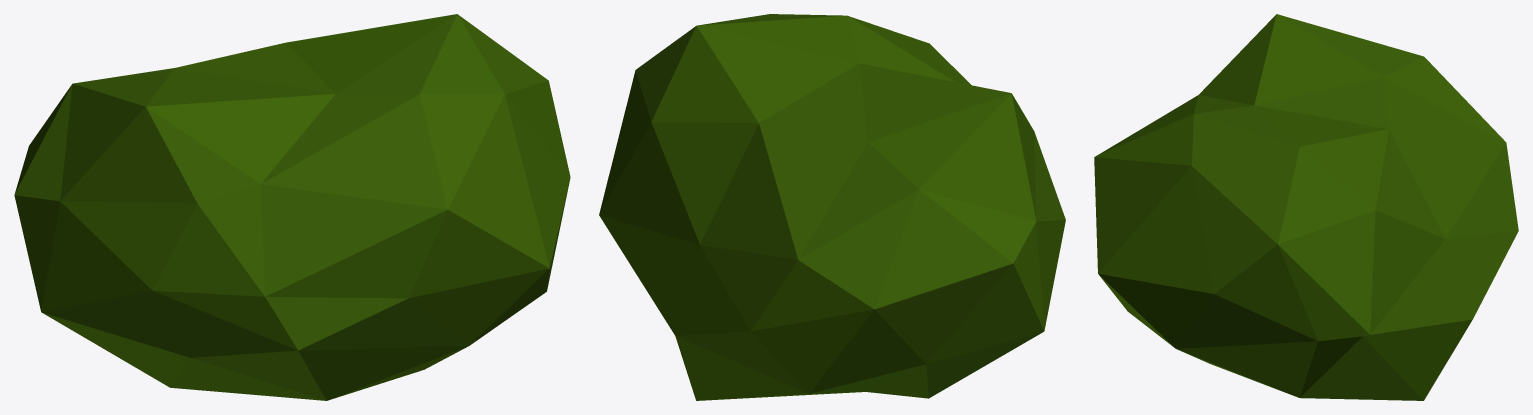
Rendered from M_Grass1.FBX.
The picture shows the model from 3 angles, left to right: view 1: azimuth 30°, elevation 25°; view 2: azimuth 150°, elevation 25°; view 3: azimuth 270°, elevation 25°; orthographic projection. The views are drawn at different scales.
Parts seen in each view (by area): view 1: GeoSphere018; view 2: GeoSphere018; view 3: GeoSphere018.
Boxes of the visible parts, x1,y1,x2,y2 form: GeoSphere018: (14, 14, 570, 400); GeoSphere018: (599, 14, 1065, 400); GeoSphere018: (1094, 14, 1518, 400).
Bounding box in the file's own units: 144 × 96.47 × 131.
